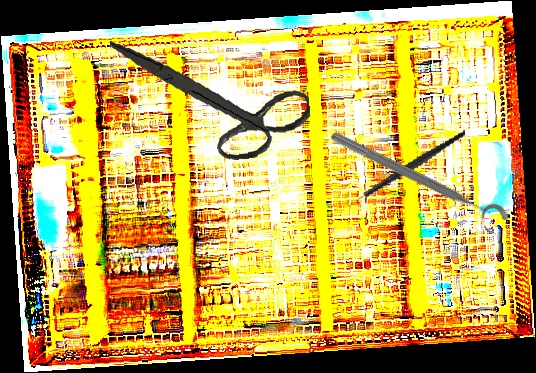Chopper: (337, 129, 477, 216)
Fixation Ring: (323, 125, 512, 240)
Iris Scissors: (109, 21, 315, 172)
